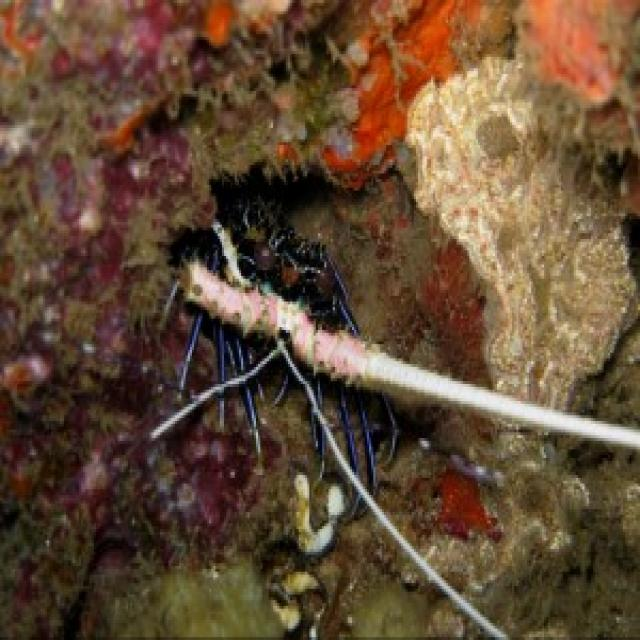lobsters: (153, 111, 640, 596)
